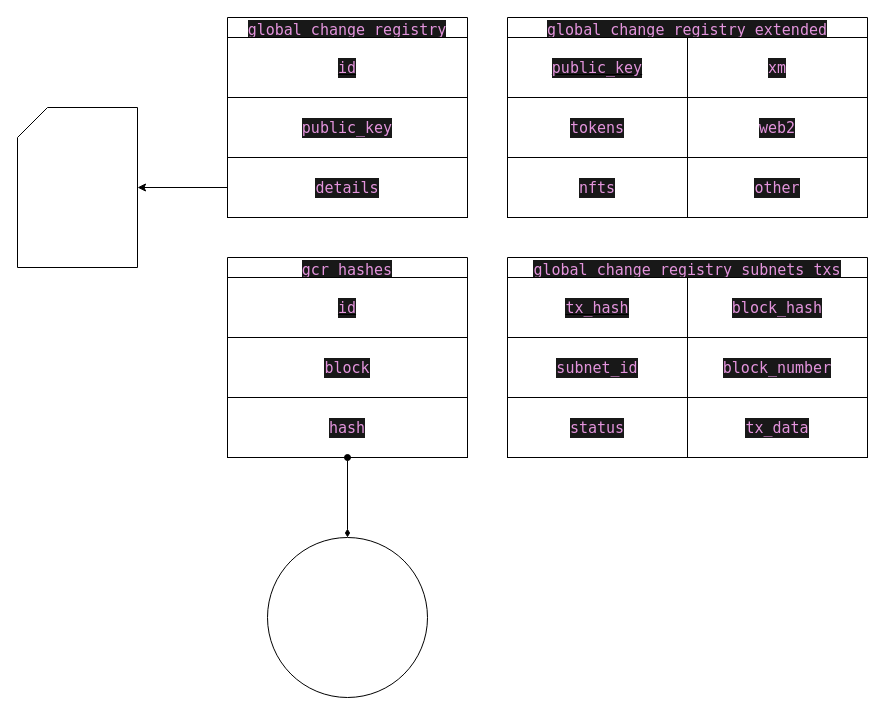
Some shapes in this 885 by 715 pixel diagram are drawn without their labels. The centre of each missing label's shape, as x and y in pixels:
hash content { balance identities txs nonce }: point (77, 187)
Hashes of the three GCR Tables are obtained by calling hashGCRTables: point (347, 617)
